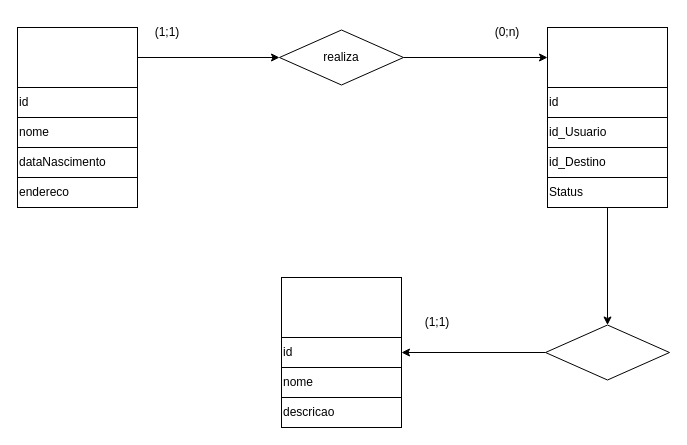
Some shapes in this 687 by 445 pixel diagram are drawn without their labels. The shapes that lost their labels are listed below. From the top down, each one's box as (x1, y1, x2, y2) in pixels, then its label:
(16, 26, 138, 88): Usuário
(546, 26, 668, 88): Reservas
(280, 276, 402, 338): Destino
(544, 324, 670, 380): vincula
